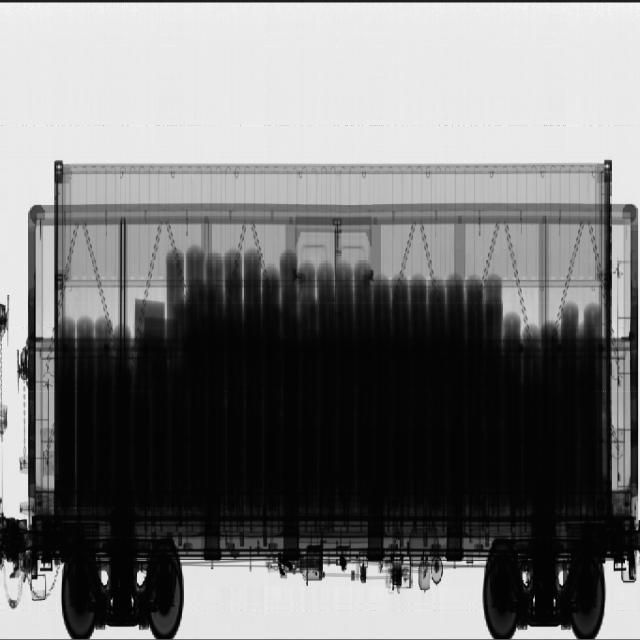textile: (429, 131, 635, 483)
